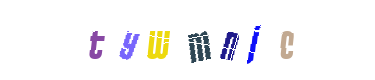C: (213, 0, 293, 80)
J: (202, 0, 282, 80)
M: (147, 0, 227, 80)
N: (170, 0, 250, 80)
T: (82, 0, 162, 80)
W: (118, 0, 198, 80)
Y: (107, 0, 187, 80)
